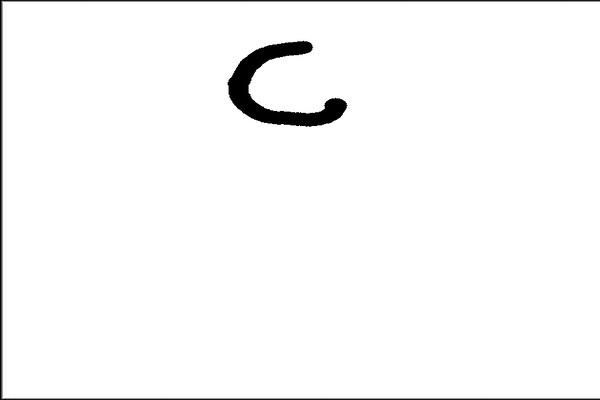C: (222, 33, 351, 131)
